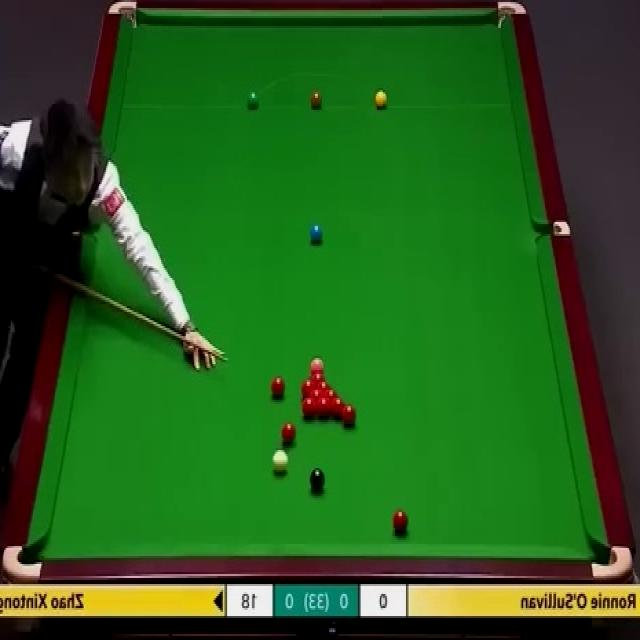black-ball: (309, 466, 326, 492)
blue-ball: (309, 222, 324, 245)
brown-ball: (310, 91, 323, 111)
green-ball: (245, 91, 261, 112)
pink-ball: (308, 361, 322, 372)
red-ball: (340, 406, 358, 430), (270, 377, 287, 402), (301, 396, 317, 421), (391, 510, 407, 534), (282, 422, 296, 444), (317, 397, 330, 418), (332, 399, 345, 420), (323, 390, 338, 408), (298, 379, 311, 398), (319, 383, 333, 397), (312, 371, 324, 387)
white-ball: (272, 450, 287, 472)
yellow-ball: (375, 90, 388, 110)
